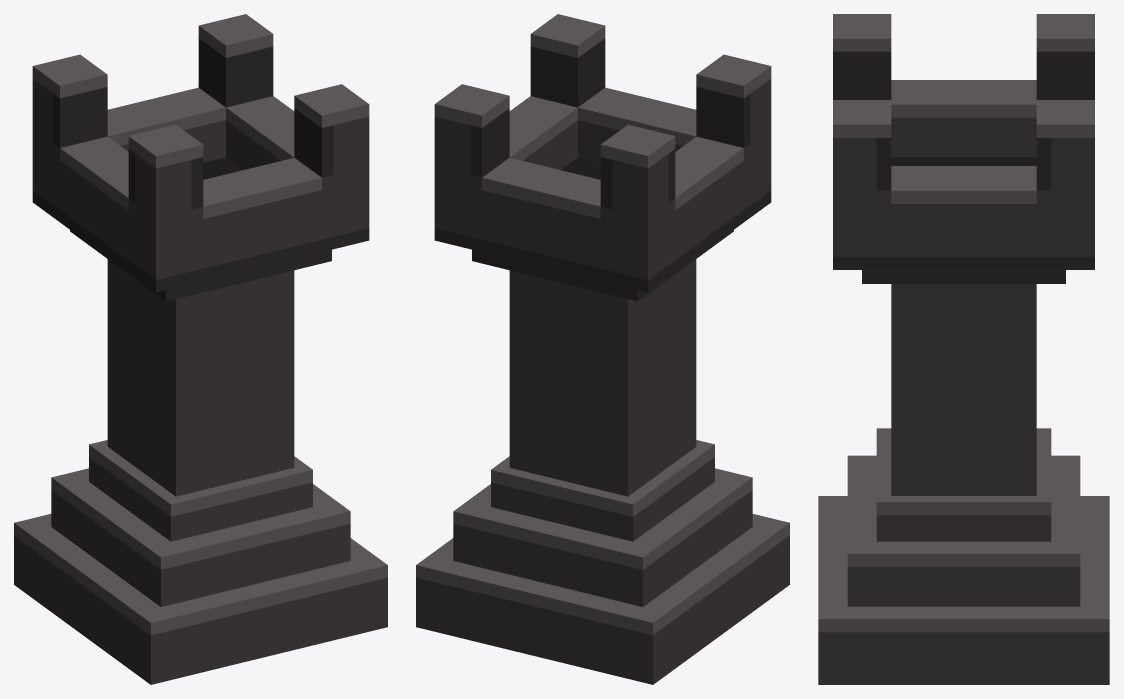
File: rook_black.obj
3 renders of one model, left to right at view 1: azimuth 30°, elevation 25°; view 2: azimuth 150°, elevation 25°; view 3: azimuth 270°, elevation 25°, orthographic. The views are drawn at different scales.
Visible parts, largest first — view 1: rook_black; view 2: rook_black; view 3: rook_black.
Part boxes in pixels (x1,y1,x2,y2): rook_black: (14,14,387,684); rook_black: (416,14,789,684); rook_black: (818,14,1109,684).
Bounding box in the file's own units: 0.42 × 0.882 × 0.42.
Materials: 1 (1 with a texture image).
